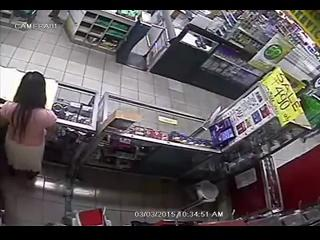Normal: (0, 70, 58, 183)
